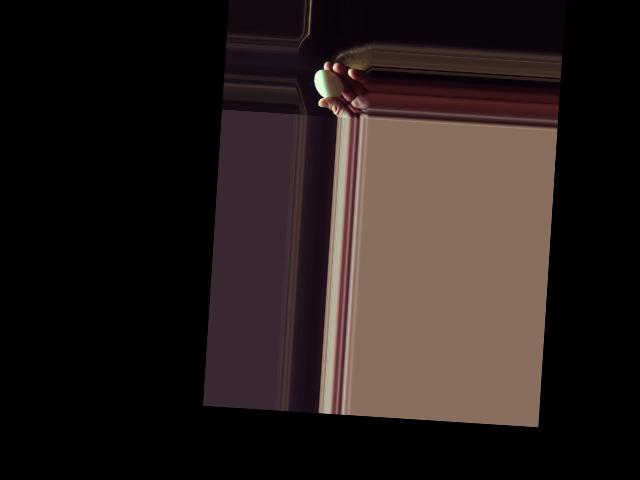egg: (313, 69, 344, 99)
